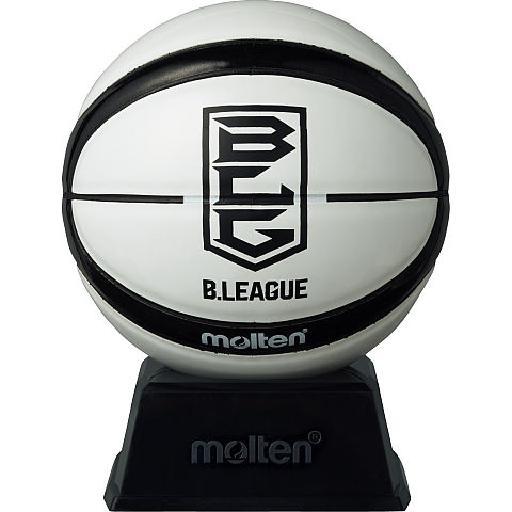ball: (64, 2, 448, 375)
